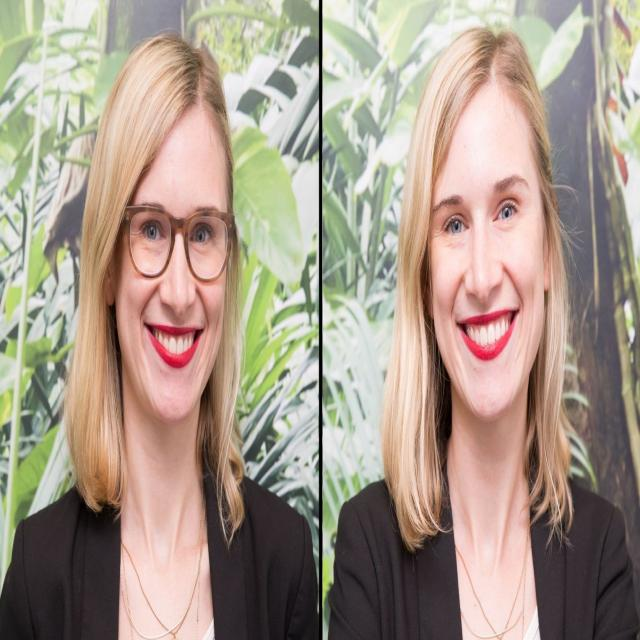Glasses: (124, 207, 236, 282)
